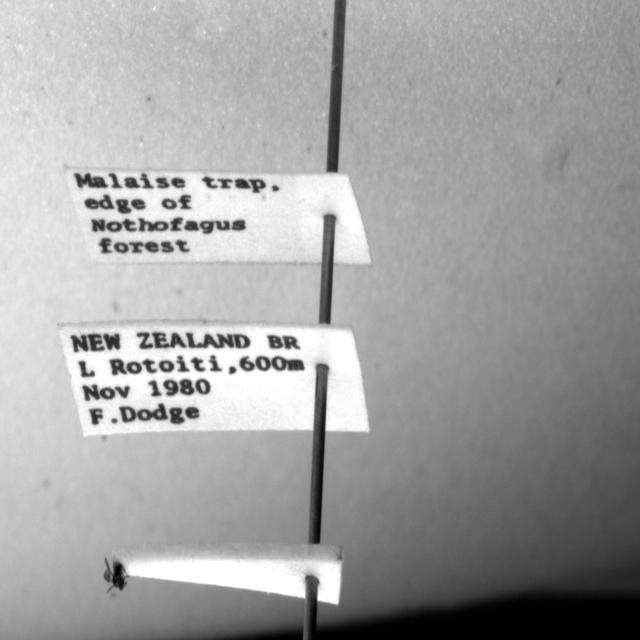typed_label: (60, 321, 369, 437), (65, 167, 371, 264)
